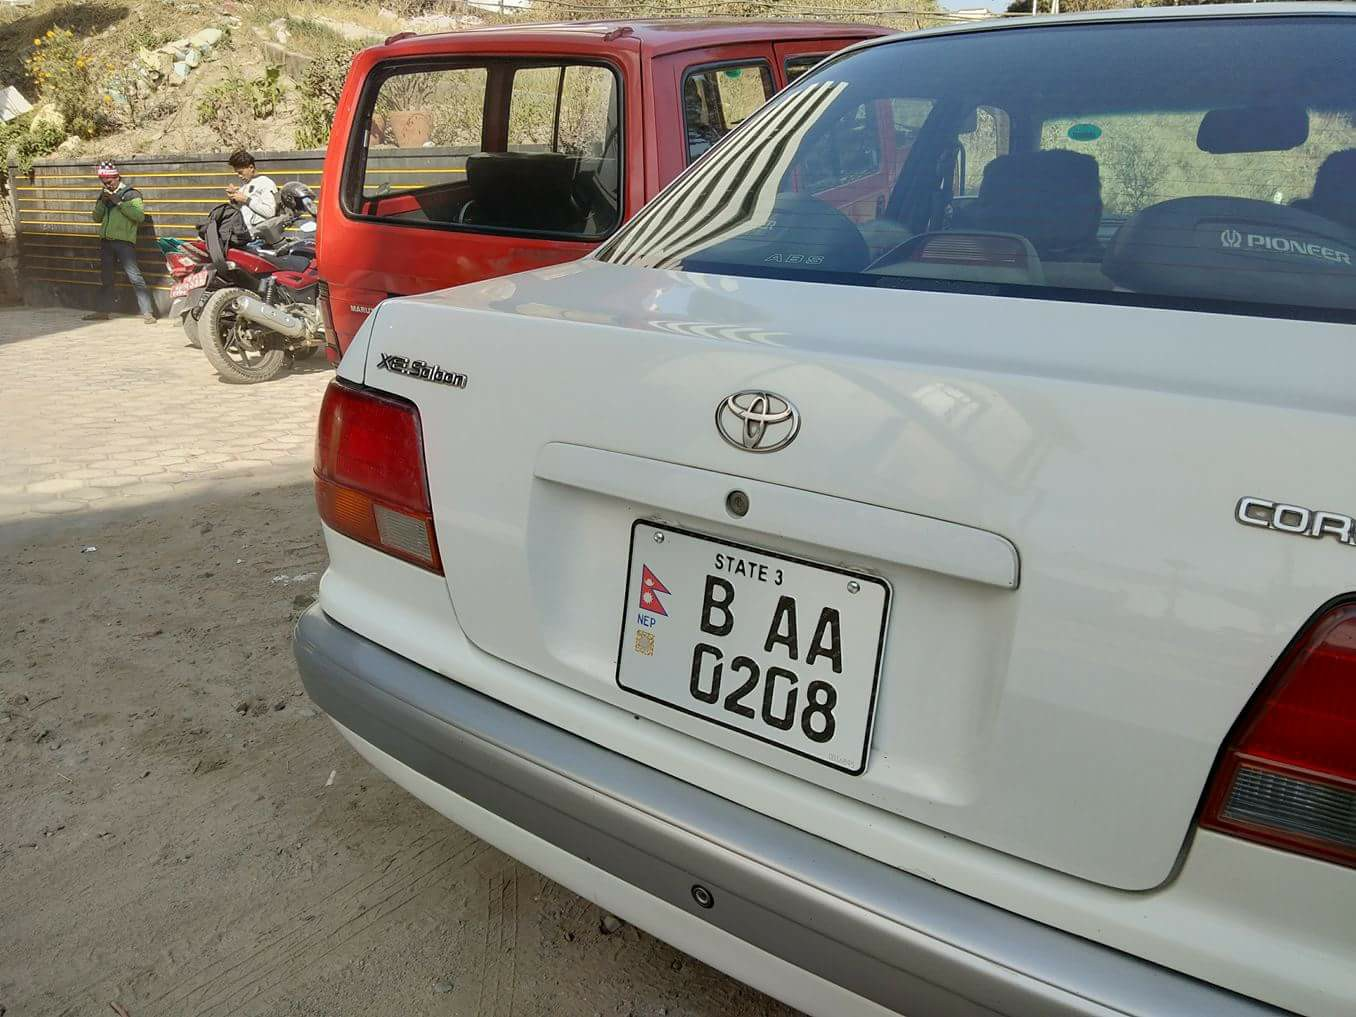number plate: (608, 502, 904, 792)
